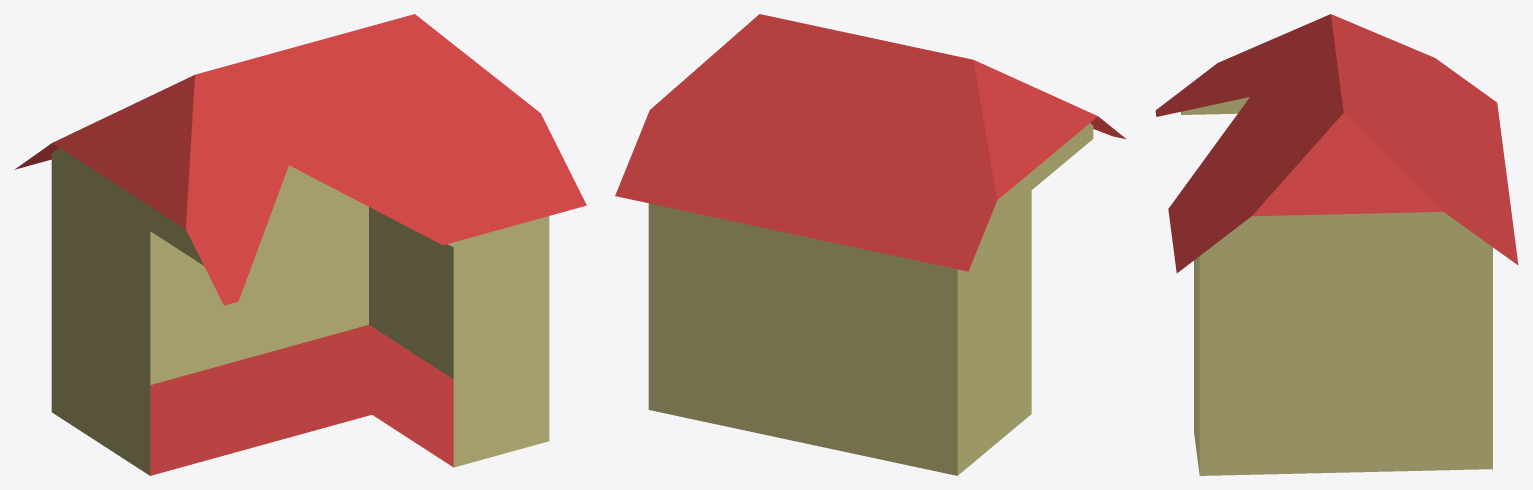
3 renders of one model, left to right at view 1: azimuth 30°, elevation 25°; view 2: azimuth 150°, elevation 25°; view 3: azimuth 270°, elevation 25°, orthographic. The views are drawn at different scales.
Bounding box in the file's own units: 12.49 × 11.2 × 11.57.
